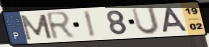8: (106, 10, 129, 36)
A: (161, 7, 189, 34)
I: (82, 10, 98, 39)
M: (17, 13, 54, 41)
R: (44, 10, 77, 42)
U: (130, 6, 162, 36)
